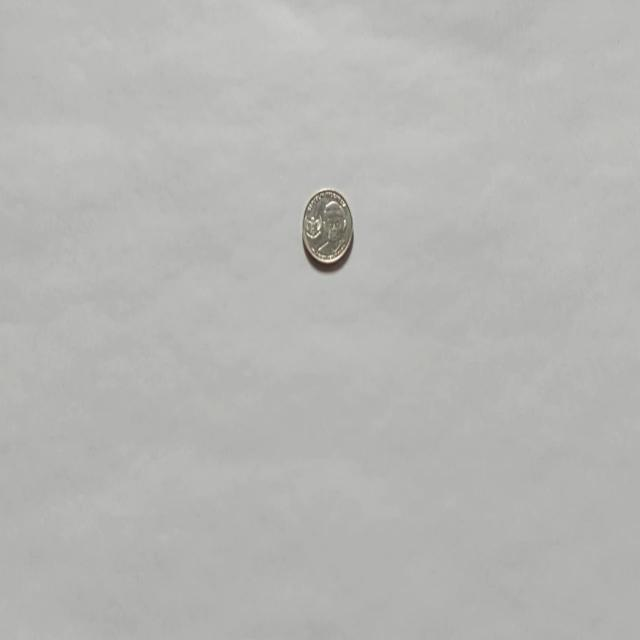seribu rupiah koin: (301, 186, 354, 268)
